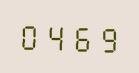four: (43, 19, 67, 52)
nine: (93, 20, 117, 54)
six: (68, 19, 92, 53)
zero: (18, 18, 42, 52)
